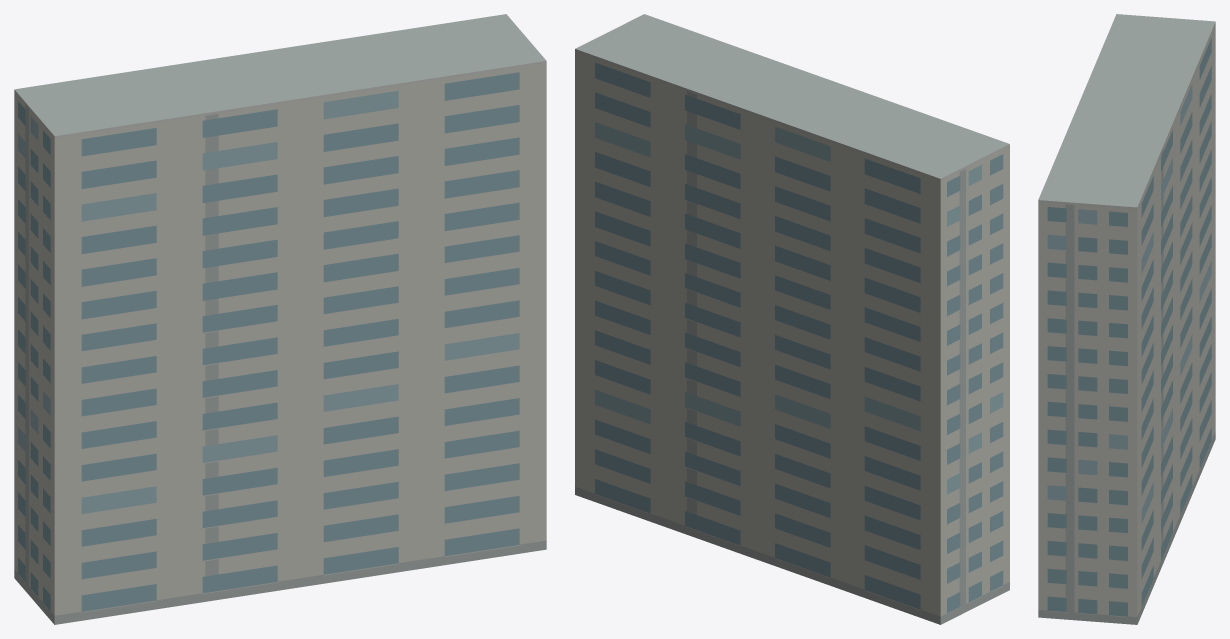
File: residential-ef741eb9-0530-44e0-8e56-5917b7087d28.glb
3 renders of one model, left to right at view 1: azimuth 30°, elevation 25°; view 2: azimuth 150°, elevation 25°; view 3: azimuth 270°, elevation 25°, orthographic. The views are drawn at different scales.
Visible parts, largest first — view 1: residential-ef741eb9-0530-44e0-8e56-5917b7087d28.tmp; view 2: residential-ef741eb9-0530-44e0-8e56-5917b7087d28.tmp; view 3: residential-ef741eb9-0530-44e0-8e56-5917b7087d28.tmp.
Boxes of the visible parts, x1,y1,x2,y2 form: residential-ef741eb9-0530-44e0-8e56-5917b7087d28.tmp: (14,14,546,624); residential-ef741eb9-0530-44e0-8e56-5917b7087d28.tmp: (575,14,1009,624); residential-ef741eb9-0530-44e0-8e56-5917b7087d28.tmp: (1038,14,1215,624).
Size of the model in its own units: 45.48 by 45.75 by 17.64.
